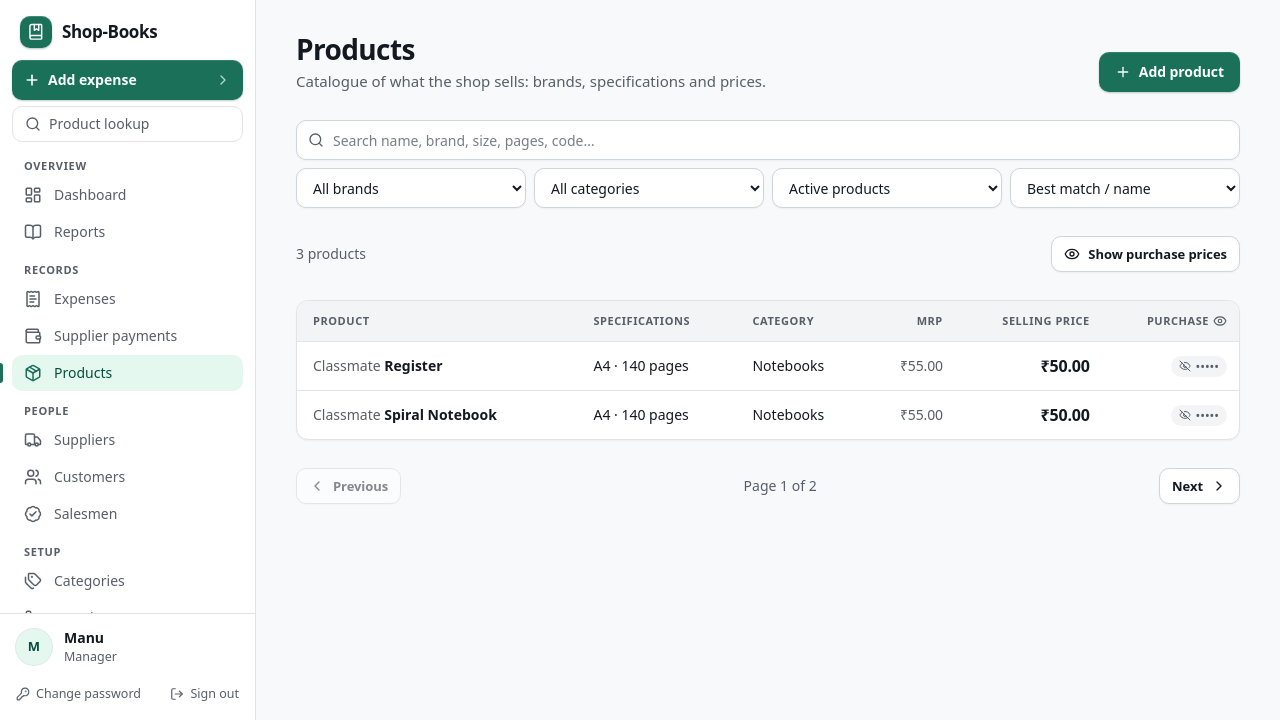
Test: product catalogue › hides purchase prices by default and reveals only the current page on request
This screenshot has width=1280, height=720.
Expected: the link "Classmate Register" is shown, [313, 356, 443, 375]
Expected: the number of elements with test id "cost-hidden" is 2, [1172, 356, 1227, 377]; [1172, 404, 1227, 426]
Click the button with aria-label "Show purchase prices for this page" at (1187, 321), box [1147, 313, 1227, 329]
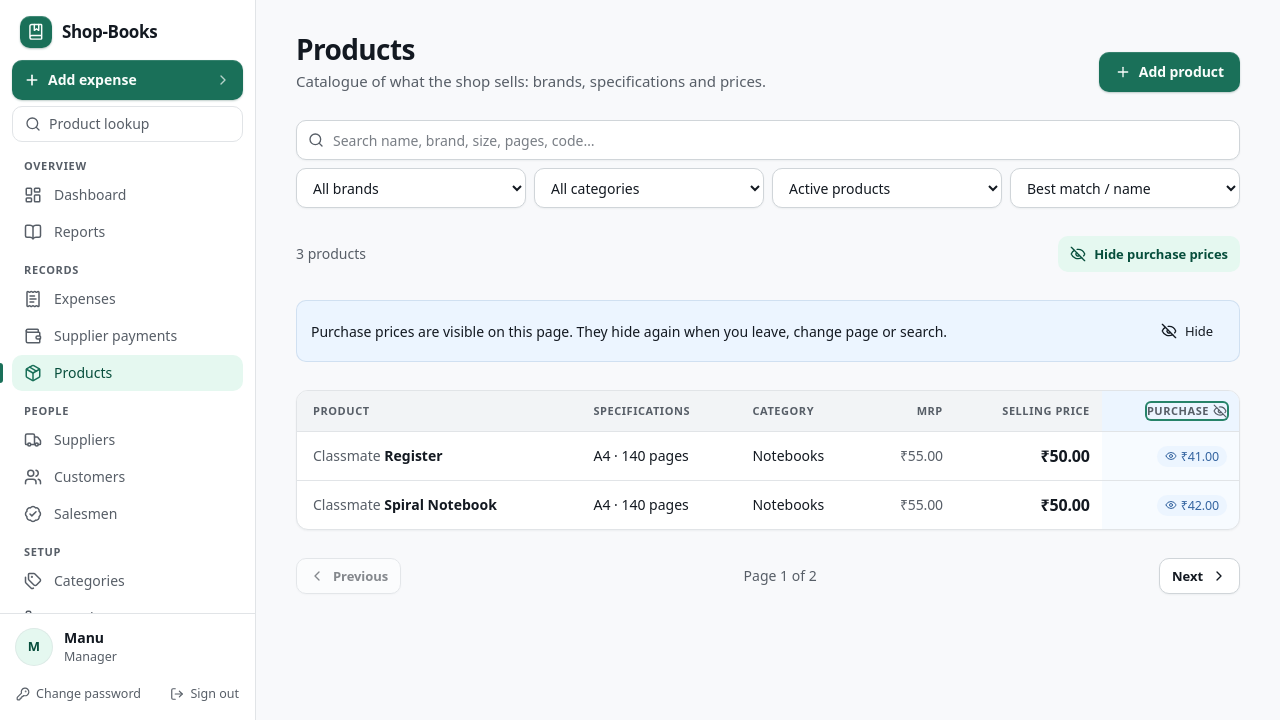
Expected: the text "₹41.00" is shown, [1157, 446, 1227, 467]
Expected: the text "Purchase prices are visible on this page" is shown, [311, 322, 947, 341]
// Next page: hidden again, cached prices forgotten.
Click the button "Next" at (1200, 576), box [1159, 558, 1240, 594]
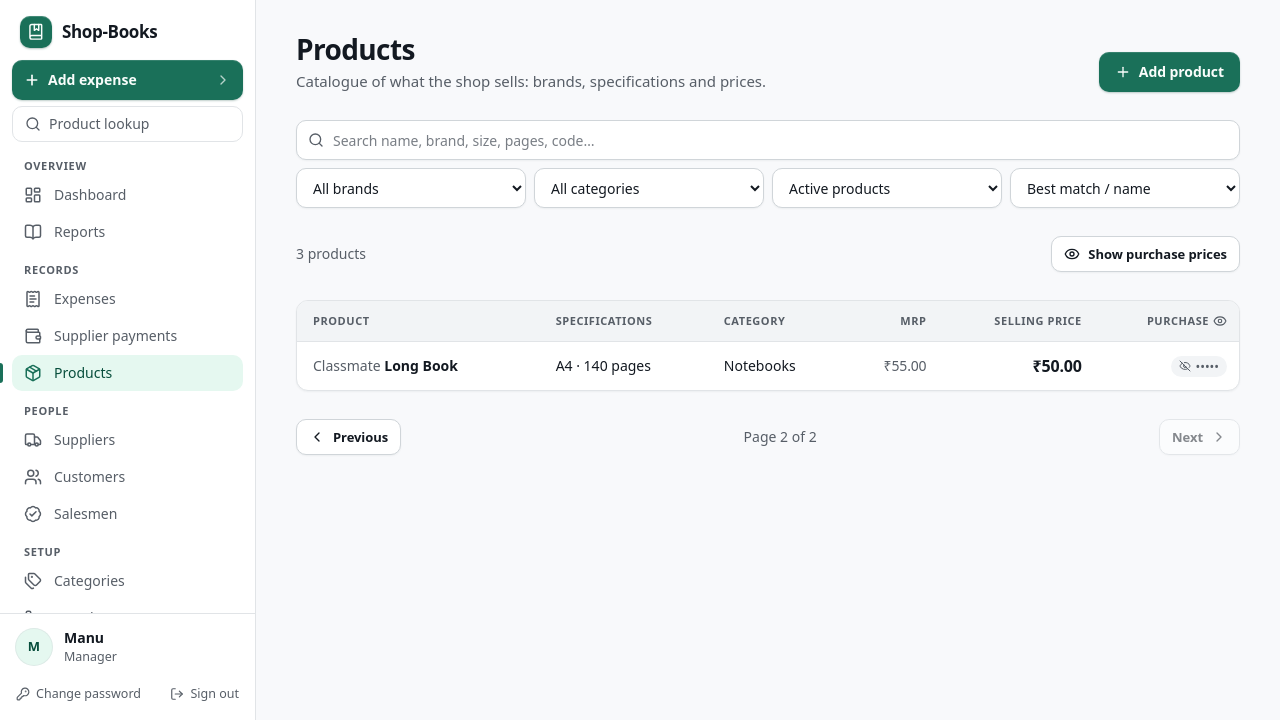
Expected: the text "₹41.00" is gone
Expected: the element with test id "cost-hidden" is shown, [1172, 356, 1227, 377]
